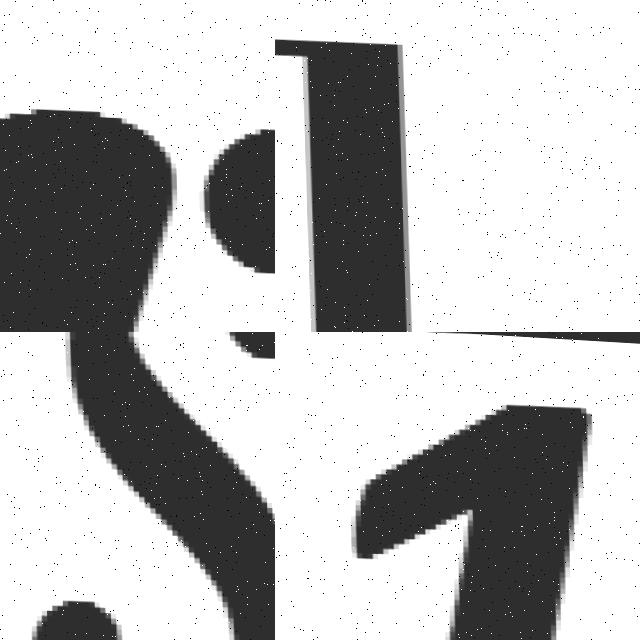1: (275, 375, 621, 640)
I: (275, 0, 457, 332)
S: (0, 332, 275, 640)
V: (0, 75, 275, 332)
